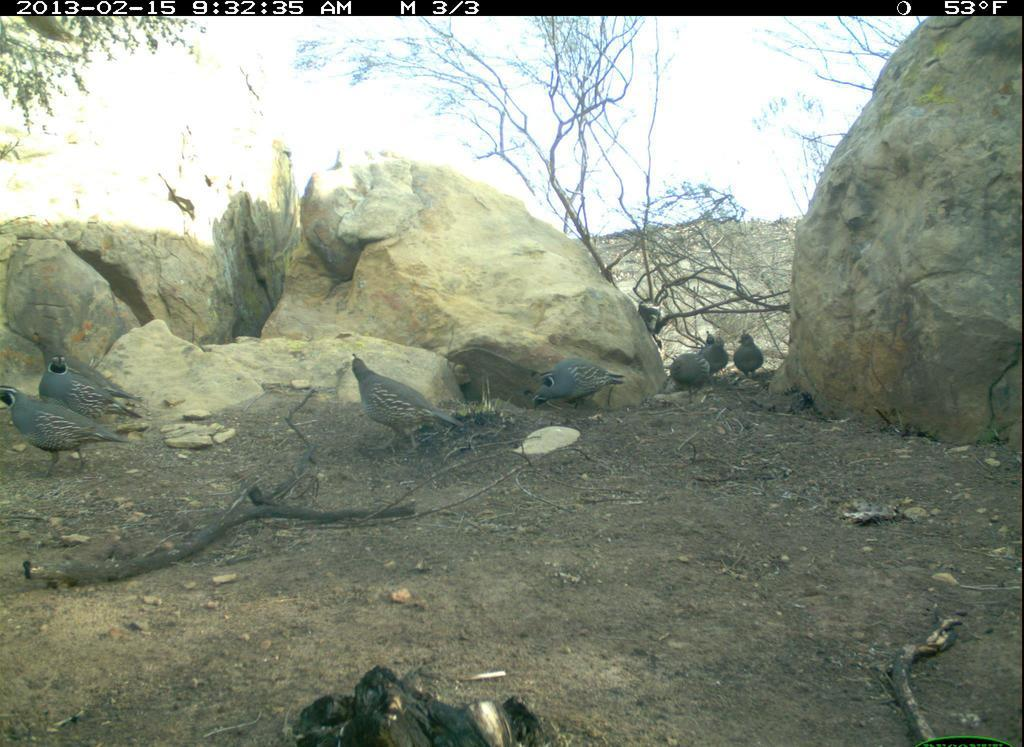bird: (345, 349, 473, 462), (1, 381, 142, 479), (28, 328, 150, 409), (37, 355, 152, 428), (530, 356, 632, 410), (520, 379, 615, 417), (665, 348, 718, 405), (695, 328, 736, 382), (734, 326, 769, 387)
